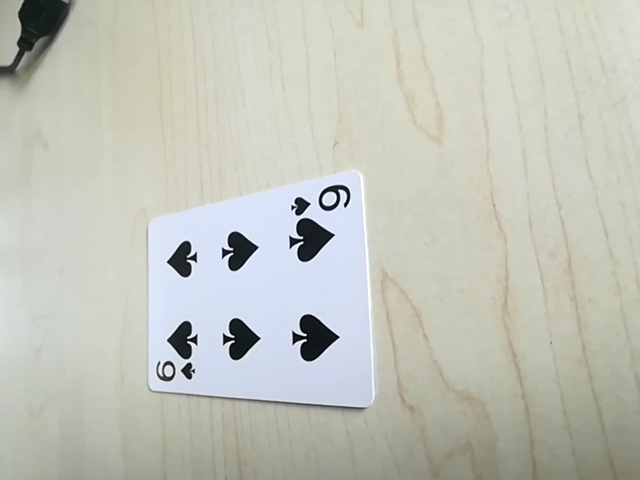ht 6: (290, 180, 353, 218), (151, 354, 199, 389)
